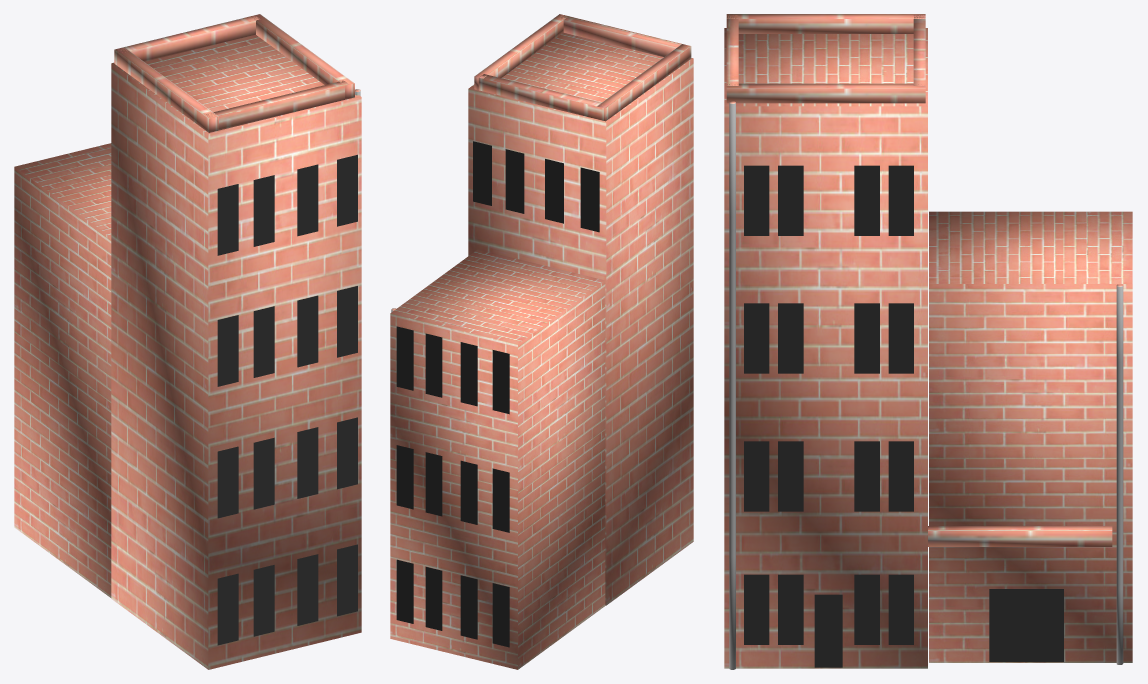
Rendered from building3.obj.
3 views of the same model, side by side, from view 1: azimuth 30°, elevation 25°; view 2: azimuth 150°, elevation 25°; view 3: azimuth 270°, elevation 25° (orthographic). The views are drawn at different scales.
Parts seen in each view (by area): view 1: Box001, Box006, Box005, Box004, Box003, Box007, Plane047, Plane049, Plane037, Plane048, Plane035, Plane036 (+10 smaller); view 2: Box006, Box001, Box004, Box005, Box003, Box007, Plane030, Plane032, Plane031, Plane033, Plane028, Plane022 (+10 smaller); view 3: Box001, Box006, Plane050, Box007, Cylinder001, Box002, Box003, Cylinder002, Plane003, Plane002, Plane004, Plane006 (+15 smaller).
Part boxes in pixels (box(x1,y1,x2,y2)): Box001: box(111, 34, 361, 669); Box006: box(14, 143, 111, 597); Box005: box(206, 80, 349, 130); Box004: box(118, 15, 259, 61); Box003: box(114, 47, 218, 132); Box007: box(252, 14, 354, 99); Plane047: box(297, 164, 318, 236); Plane049: box(217, 184, 238, 255); Plane037: box(217, 573, 238, 645); Plane048: box(253, 175, 274, 246); Plane035: box(297, 554, 318, 625); Plane036: box(253, 565, 274, 636); Box006: box(390, 249, 605, 669); Box001: box(468, 32, 693, 605); Box004: box(478, 74, 603, 120); Box005: box(561, 15, 681, 56); Box003: box(597, 44, 691, 121); Box007: box(474, 14, 566, 90); Plane030: box(580, 167, 599, 232); Plane032: box(505, 149, 524, 213); Plane031: box(545, 159, 563, 223); Plane033: box(473, 141, 491, 205); Plane028: box(425, 333, 442, 397); Plane022: box(492, 468, 509, 532); Box001: box(724, 28, 927, 668); Box006: box(929, 211, 1132, 662); Plane050: box(989, 589, 1063, 661); Box007: box(726, 83, 925, 103); Cylinder001: box(729, 101, 735, 669); Box002: box(928, 526, 1112, 546); Box003: box(726, 14, 925, 33); Cylinder002: box(1116, 284, 1123, 664); Plane003: box(814, 594, 842, 667); Plane002: box(854, 574, 879, 644); Plane004: box(778, 574, 803, 644); Plane006: box(888, 441, 913, 511).
Bounding box in the file's own units: 117 × 395 × 255.
